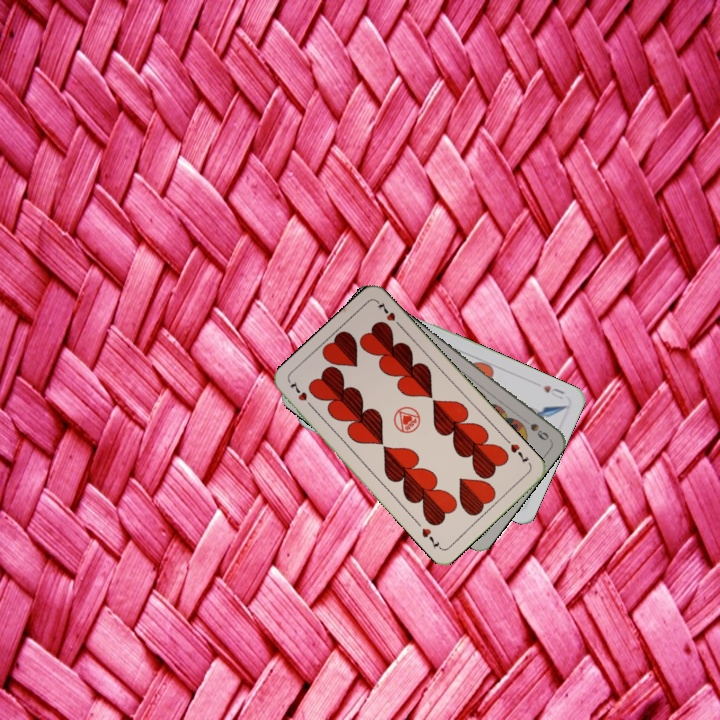H7: (285, 377, 316, 411), (506, 440, 531, 466)
HU: (539, 381, 567, 402)
S9: (517, 413, 552, 443)
